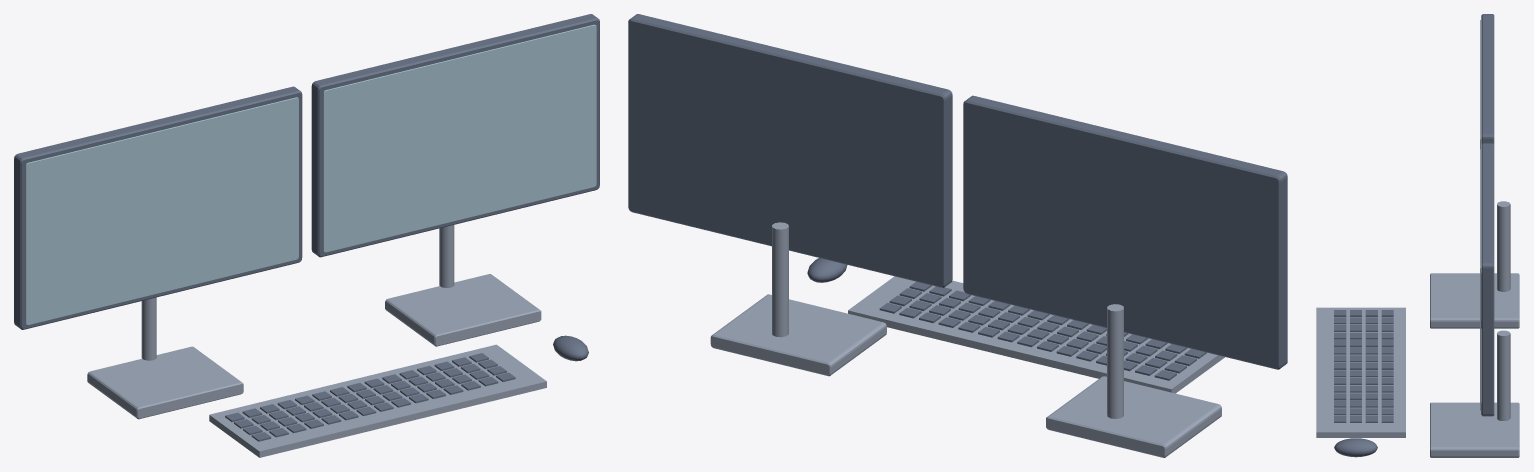
The model's file is dual-monitors-lite.glb.
The picture shows the model from 3 angles, left to right: view 1: azimuth 30°, elevation 25°; view 2: azimuth 150°, elevation 25°; view 3: azimuth 270°, elevation 25°; orthographic projection. The views are drawn at different scales.
Visible parts, largest first — view 1: glass, body, dark; view 2: dark, body; view 3: body, dark, glass.
Part boxes in pixels (x1,y1,x2,y2): glass: (25,24,596,325); body: (87,225,546,457); dark: (14,14,599,441); dark: (628,14,1287,380); body: (710,222,1224,457); body: (1316,201,1519,457); dark: (1334,14,1494,457); glass: (1480,20,1480,410).
Size of the model in its own units: 1.13 by 0.496 by 0.385.
